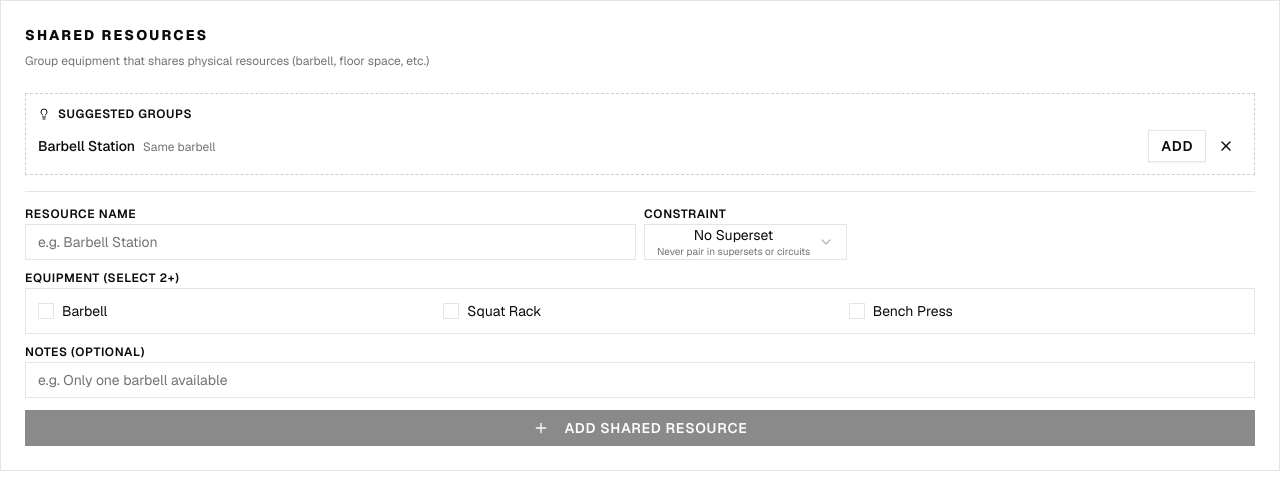
SharedResourceEditor › dismisses suggestion
The width and height of the screenshot is (1280, 488).
Find the X dismiss button (small one next to Add)
Step 1. Click the 2nd button → (1226, 146), box [1210, 130, 1242, 162]
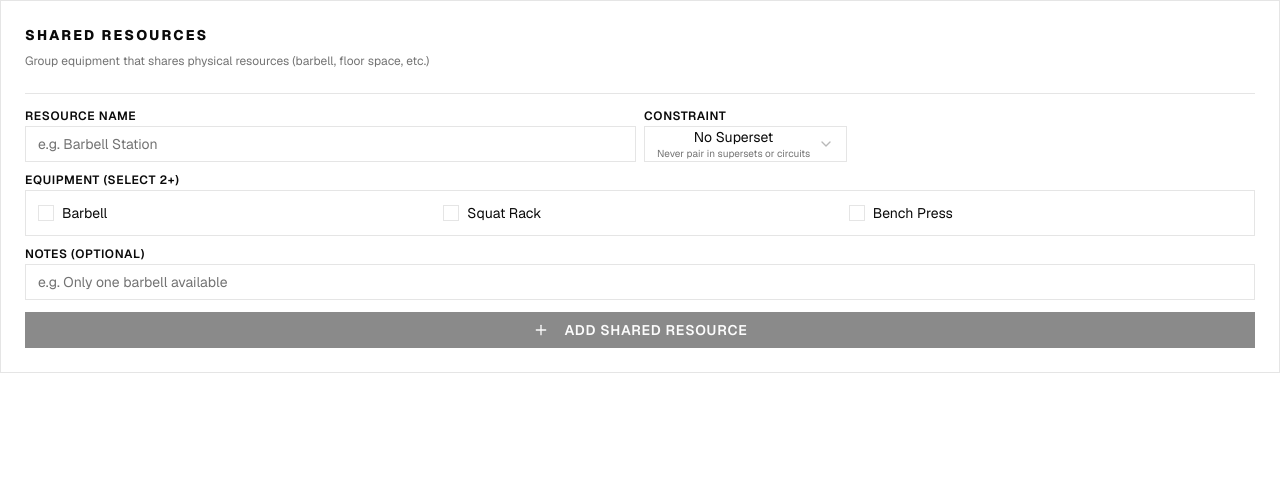
Result: the text "Same barbell" is gone
